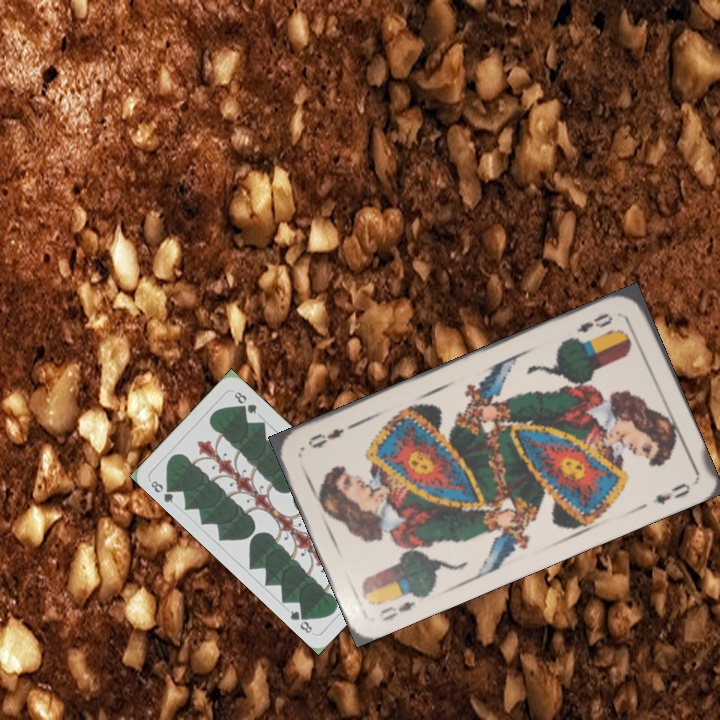EO: (572, 309, 615, 336), (376, 597, 418, 624)
G8: (147, 476, 178, 506)
